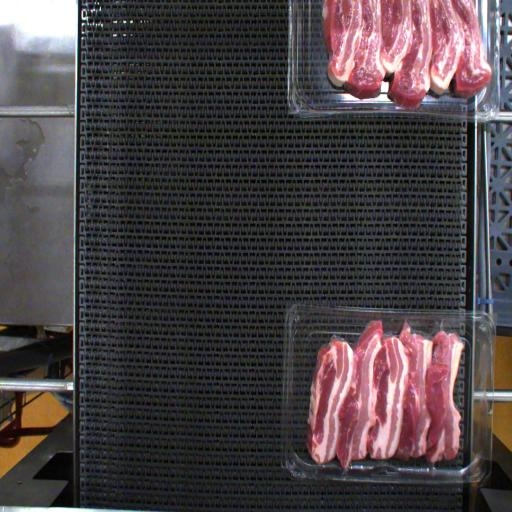unsealed: (304, 318, 477, 356)
